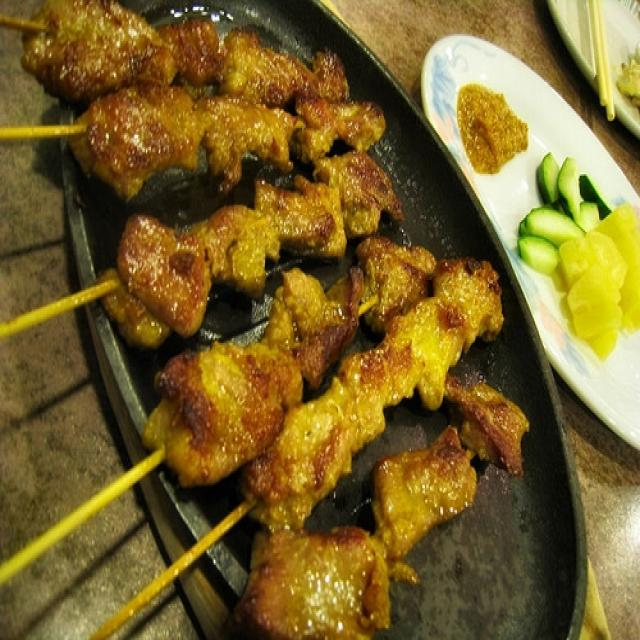牛肉菜式: (18, 7, 577, 628)
